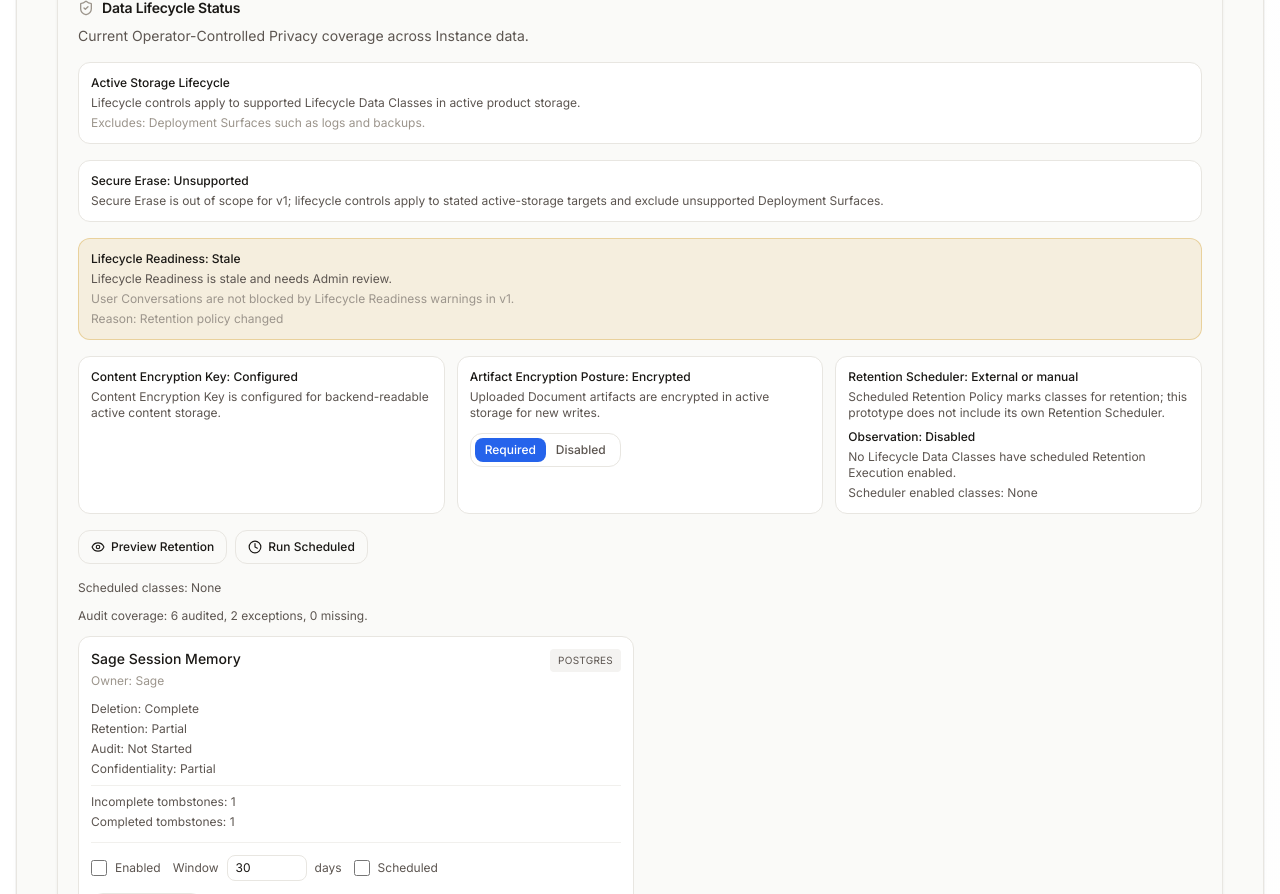
AdminDeploymentConfig › lets admins mark uploaded artifacts as plaintext by operator choice
(page scrolled)
Click the button "Disabled" at (581,450), box [546,438,616,462]
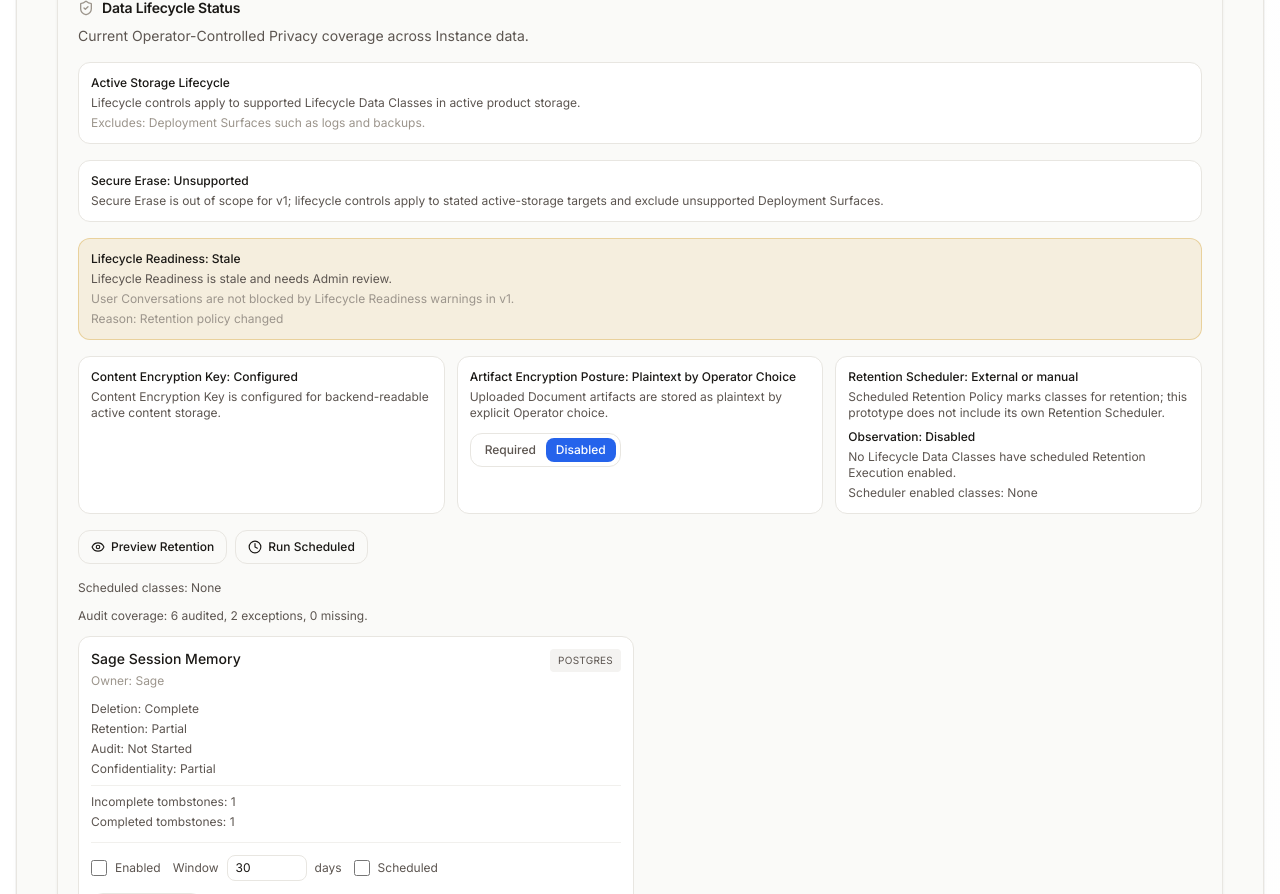
Check: the text "Artifact Encryption Posture: Plaintext by Operator Choice" is shown, box [470,369,810,385]
